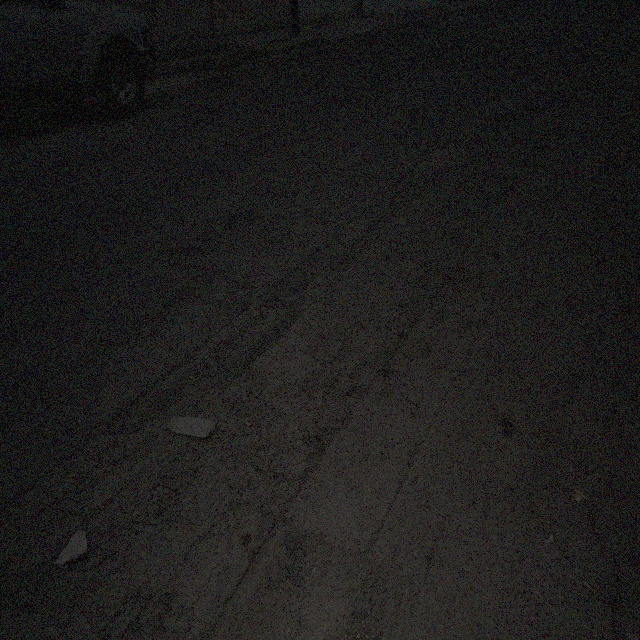pothole: (155, 236, 210, 267), (298, 430, 328, 486), (231, 207, 260, 229)
